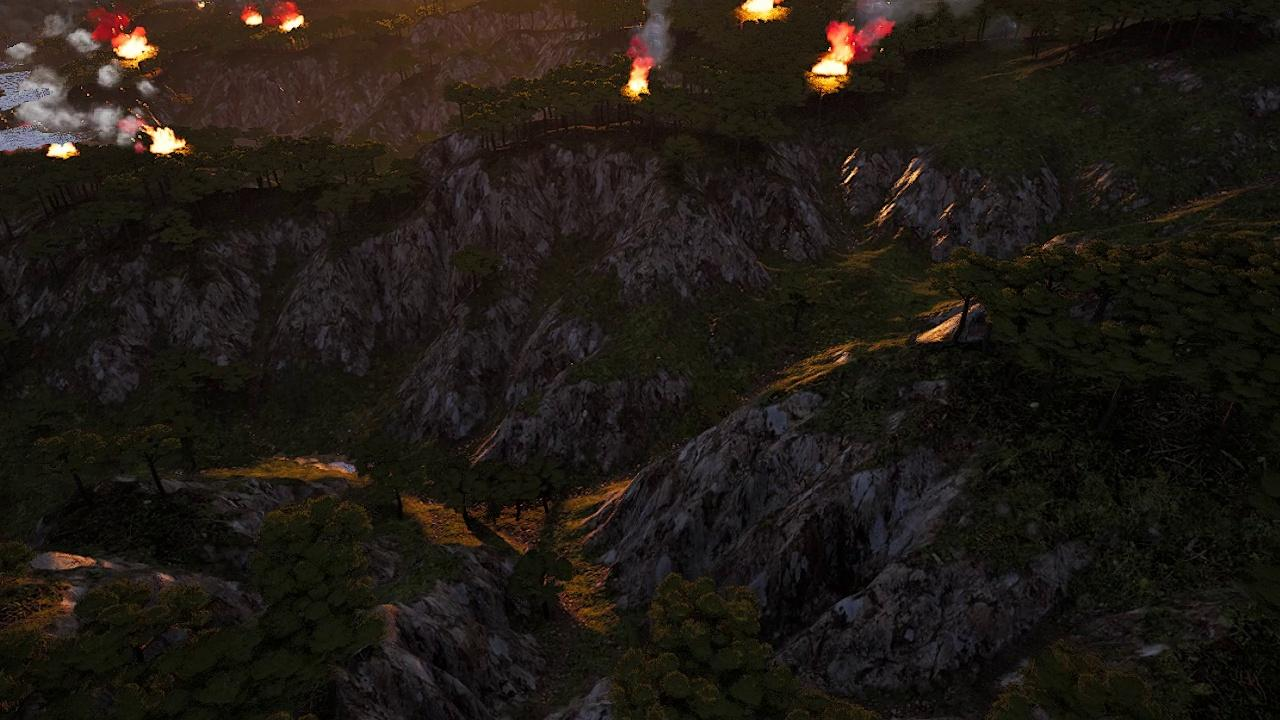fire: (810, 15, 895, 80), (114, 28, 155, 64), (147, 122, 184, 154), (627, 58, 654, 100), (740, 0, 784, 19), (280, 13, 304, 34), (250, 11, 264, 29)
smoke: (0, 1, 144, 143), (825, 0, 966, 55), (629, 0, 675, 65)
